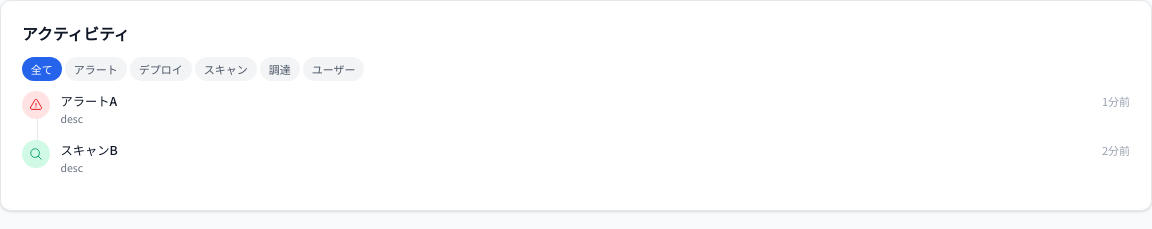
Scenario: ActivityFeedWidget › filtering by type shows only matching events
Click the button "アラート" at [96, 69], box [65,57,126,80]
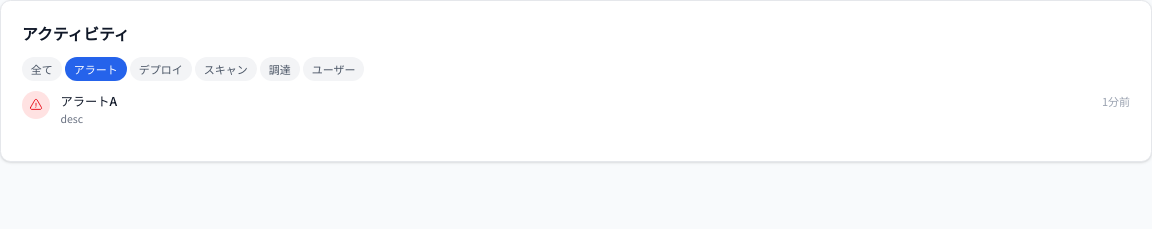
Expected: the text "アラートA" is shown, [60,93,117,110]
Result: the text "スキャンB" is gone
